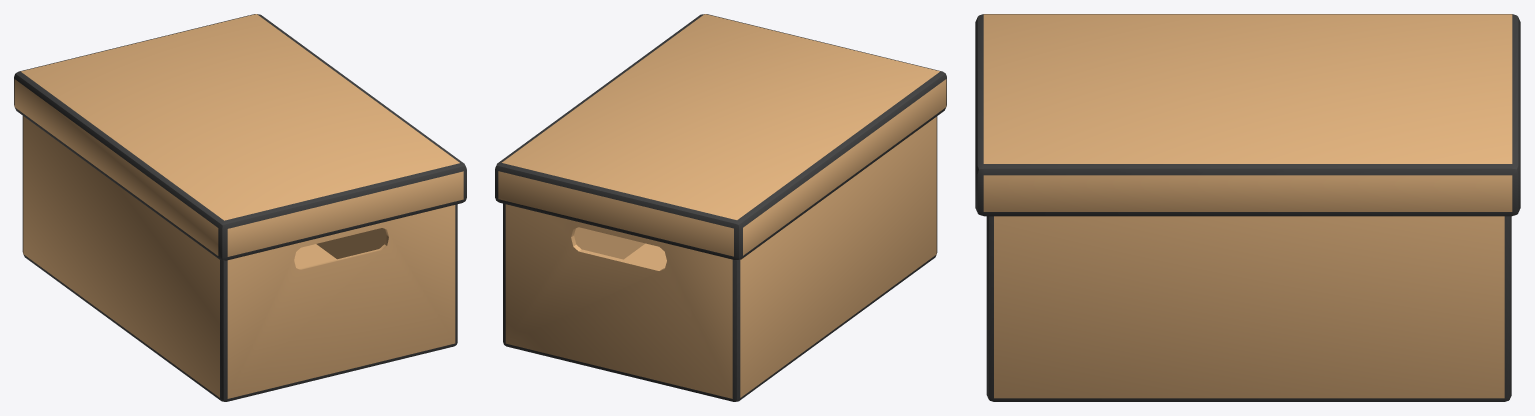
The model's file is pudlo.fbx.
3 renders of one model, left to right at view 1: azimuth 30°, elevation 25°; view 2: azimuth 150°, elevation 25°; view 3: azimuth 270°, elevation 25°, orthographic. The views are drawn at different scales.
Parts seen in each view (by area): view 1: Kostka.001, Kostka; view 2: Kostka.001, Kostka; view 3: Kostka.001, Kostka.
Boxes of the visible parts, left/top/right/bottom form: Kostka.001: left=14, top=14, right=466, bottom=260; Kostka: left=22, top=116, right=457, bottom=401; Kostka.001: left=495, top=14, right=946, bottom=260; Kostka: left=503, top=116, right=937, bottom=401; Kostka.001: left=975, top=14, right=1520, bottom=216; Kostka: left=986, top=216, right=1511, bottom=401.
Bounding box in the file's own units: 67.79 × 48.38 × 99.45.
